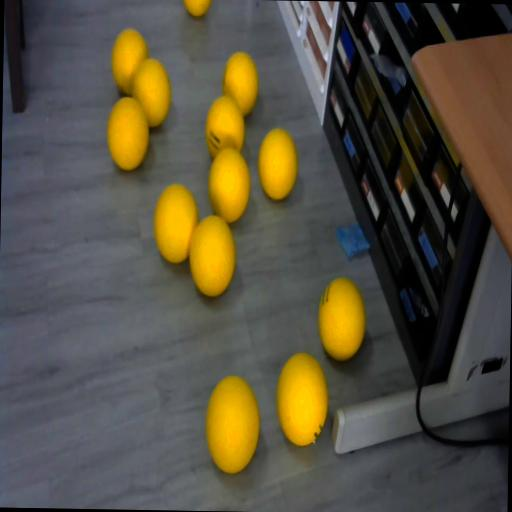FUEL: (204, 372, 260, 472), (274, 352, 330, 446), (187, 212, 236, 296), (316, 277, 364, 362), (152, 181, 199, 264), (207, 148, 251, 223), (106, 96, 150, 171), (258, 127, 298, 200), (111, 28, 149, 96), (222, 51, 260, 116), (182, 0, 213, 17)
